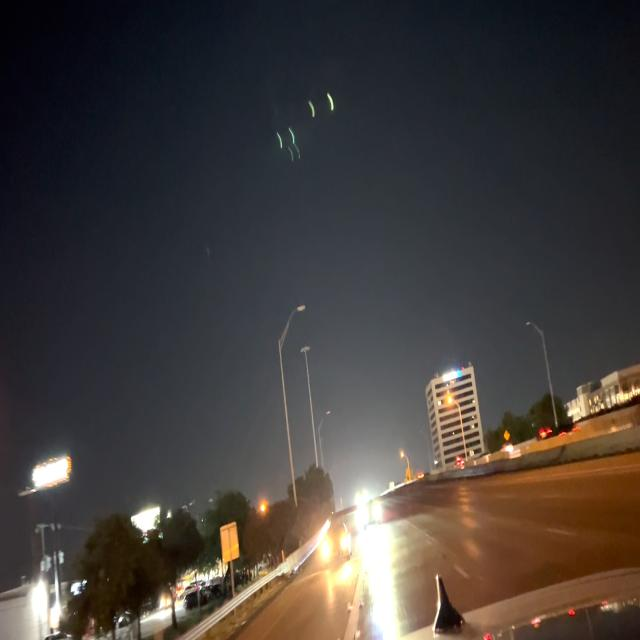back-of-sign: (219, 520, 239, 564)
